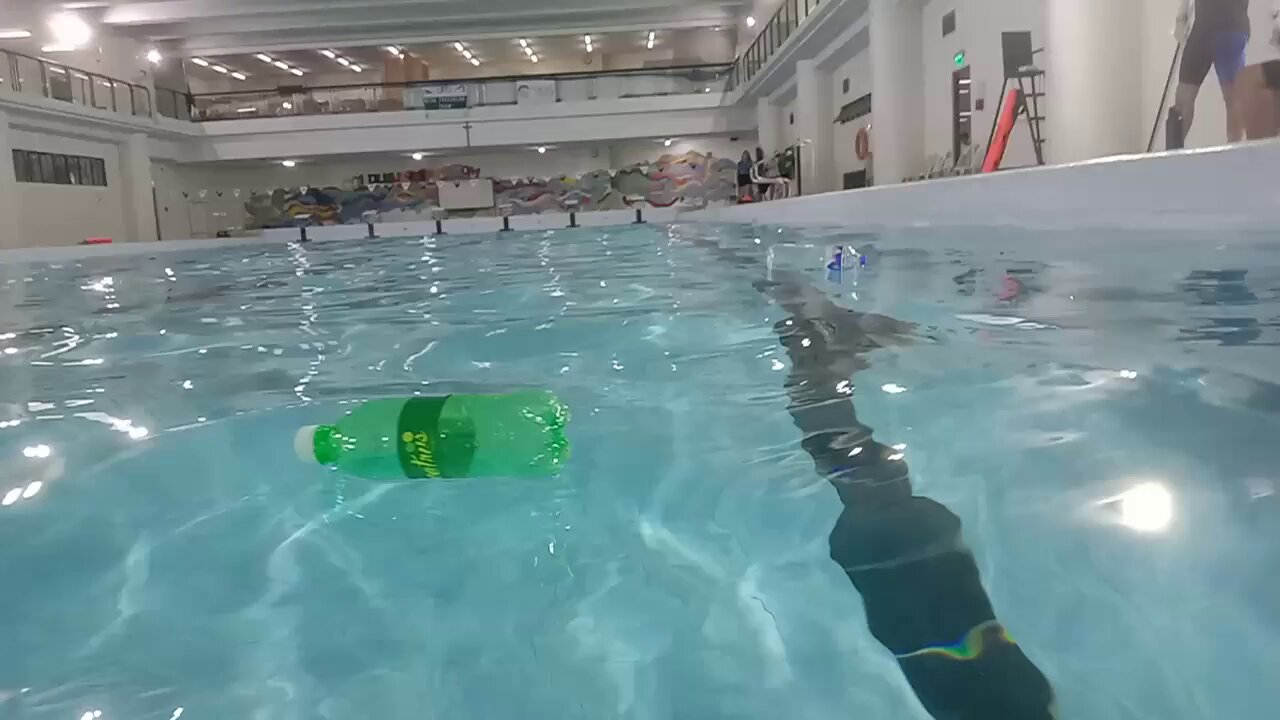plastic_bottle: (295, 391, 571, 479), (765, 241, 869, 272)
